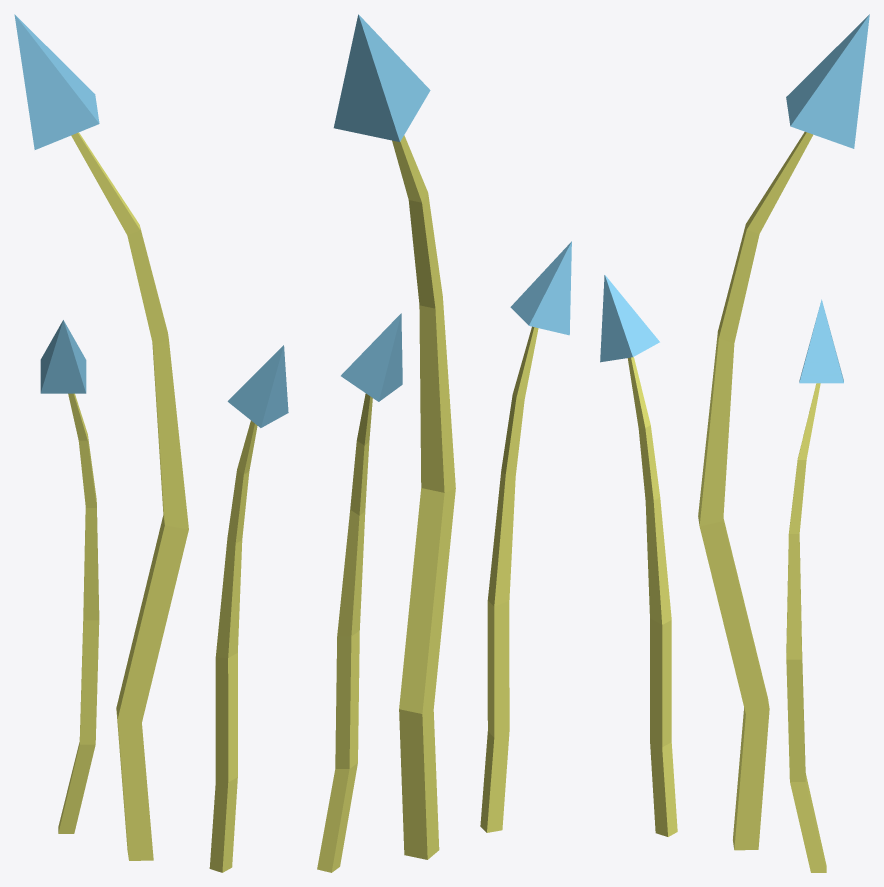
File: RH_Plant01.fbx
The picture shows the model from 3 angles, left to right: view 1: azimuth 90°, elevation 25°; view 2: azimuth 150°, elevation 25°; view 3: azimuth 270°, elevation 25°; orthographic projection. The views are drawn at different scales.
Visible parts, largest first — view 1: RH_Plant01; view 2: RH_Plant01; view 3: RH_Plant01.
Boxes of the visible parts, x1,y1,x2,y2 form: RH_Plant01: [14, 14, 288, 872]; RH_Plant01: [317, 14, 571, 872]; RH_Plant01: [600, 14, 869, 872].
Bounding box in the file's own units: 10.37 × 60.25 × 17.76.
Materials: 1 (1 with a texture image).
